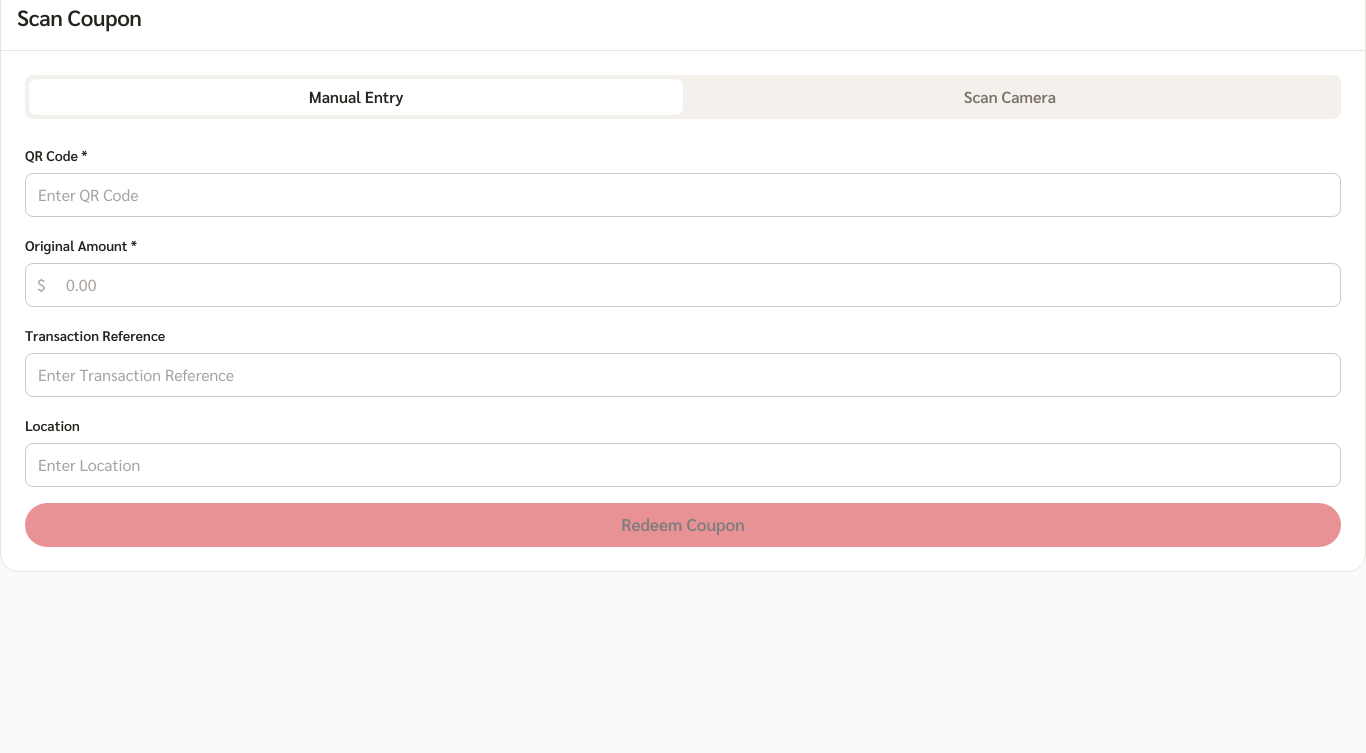
CouponScanner › Form Submission › should enable submit button when valid coupon and amount
Type "QR123456" into the field labelled "QR Code *" at [683, 195], box 25,173 -> 1341,217
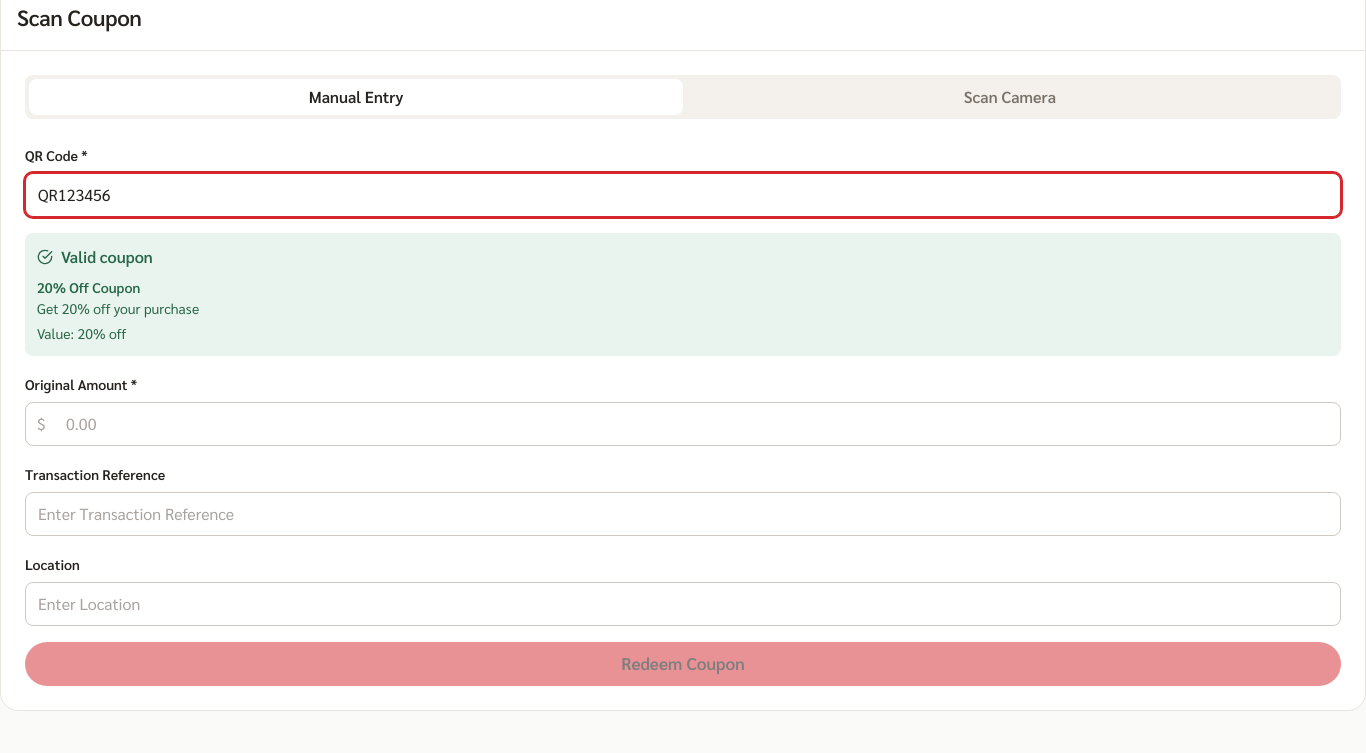
Now the text "Valid coupon" is shown, box 61,245 -> 153,269
Type "1000" into the number field labelled "Original Amount *" at [683, 424], box 25,402 -> 1341,446
(page scrolled)
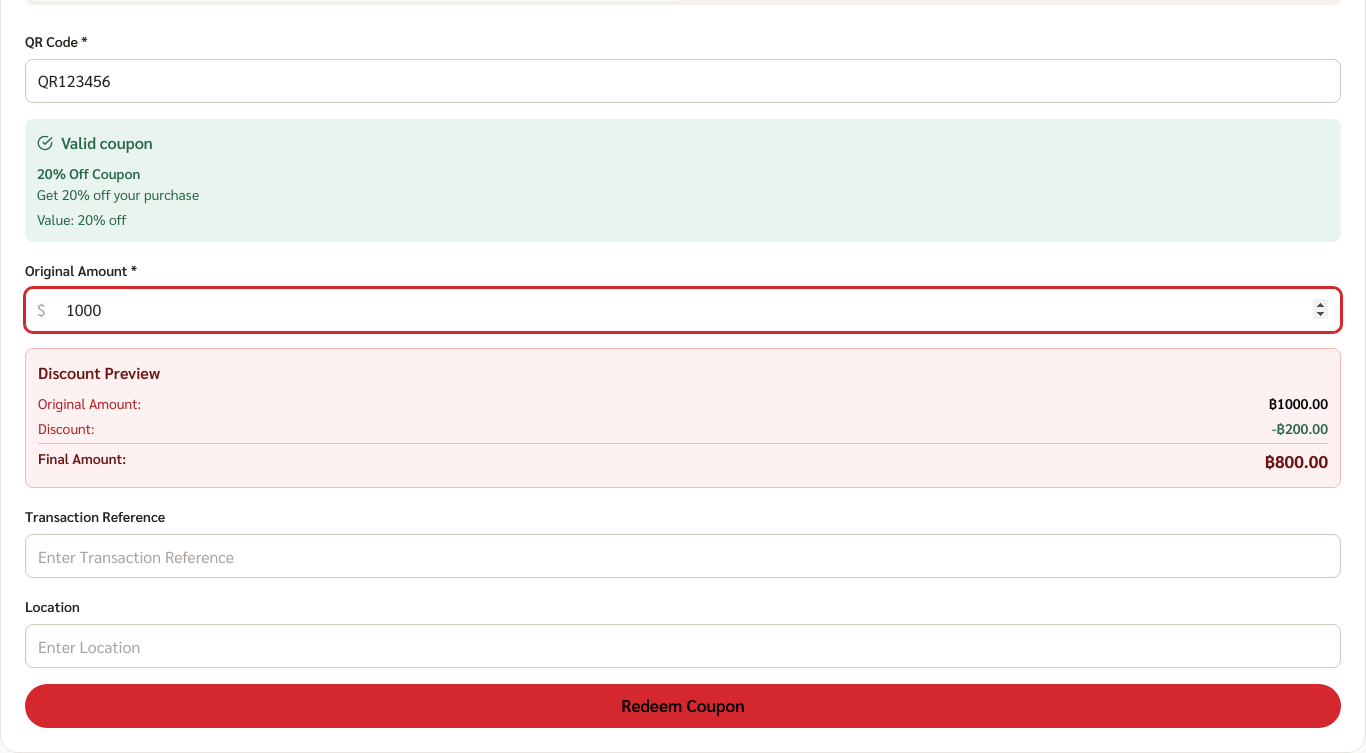
Now the button "Redeem Coupon" is enabled, box 25,684 -> 1341,728
